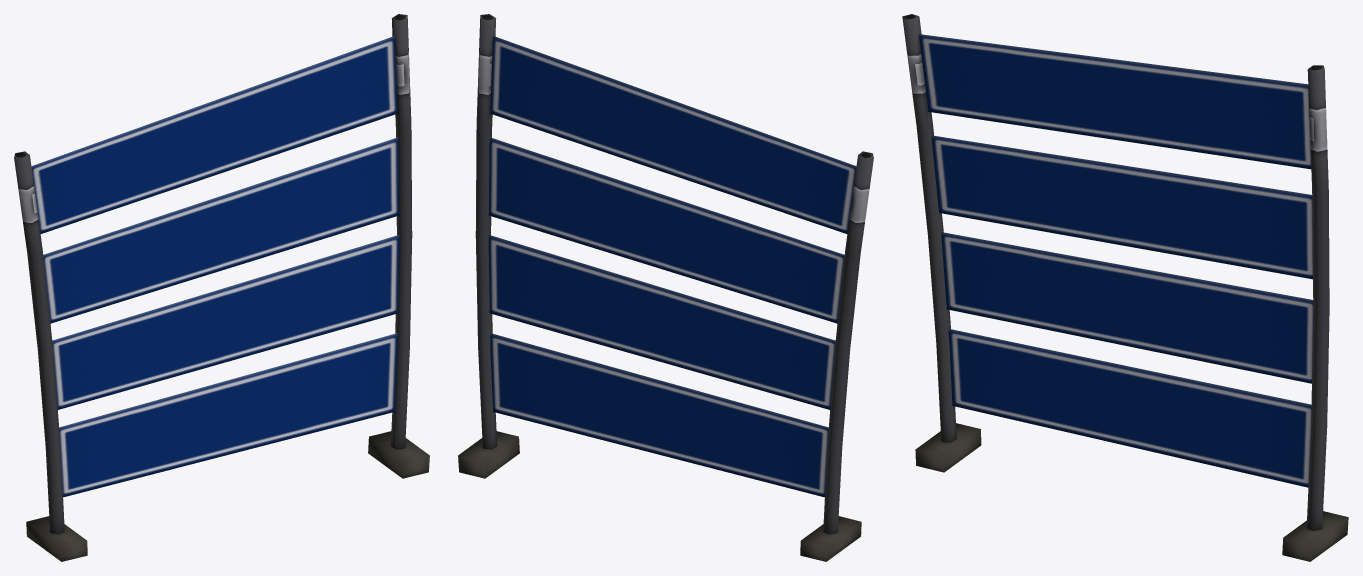
File: StationNaamBord_MENU_Main.FBX
The picture shows the model from 3 angles, left to right: view 1: azimuth 30°, elevation 25°; view 2: azimuth 150°, elevation 25°; view 3: azimuth 330°, elevation 25°; orthographic projection. The views are drawn at different scales.
Visible parts, largest first — view 1: StationsNaambord; view 2: StationsNaambord; view 3: StationsNaambord.
Boxes of the visible parts, box(x1,y1,x2,y2) form: StationsNaambord: box(14, 14, 429, 561); StationsNaambord: box(458, 14, 873, 561); StationsNaambord: box(902, 14, 1348, 561).
Size of the model in its own units: 136 by 146 by 20.59.
Materials: 1 (1 with a texture image).
